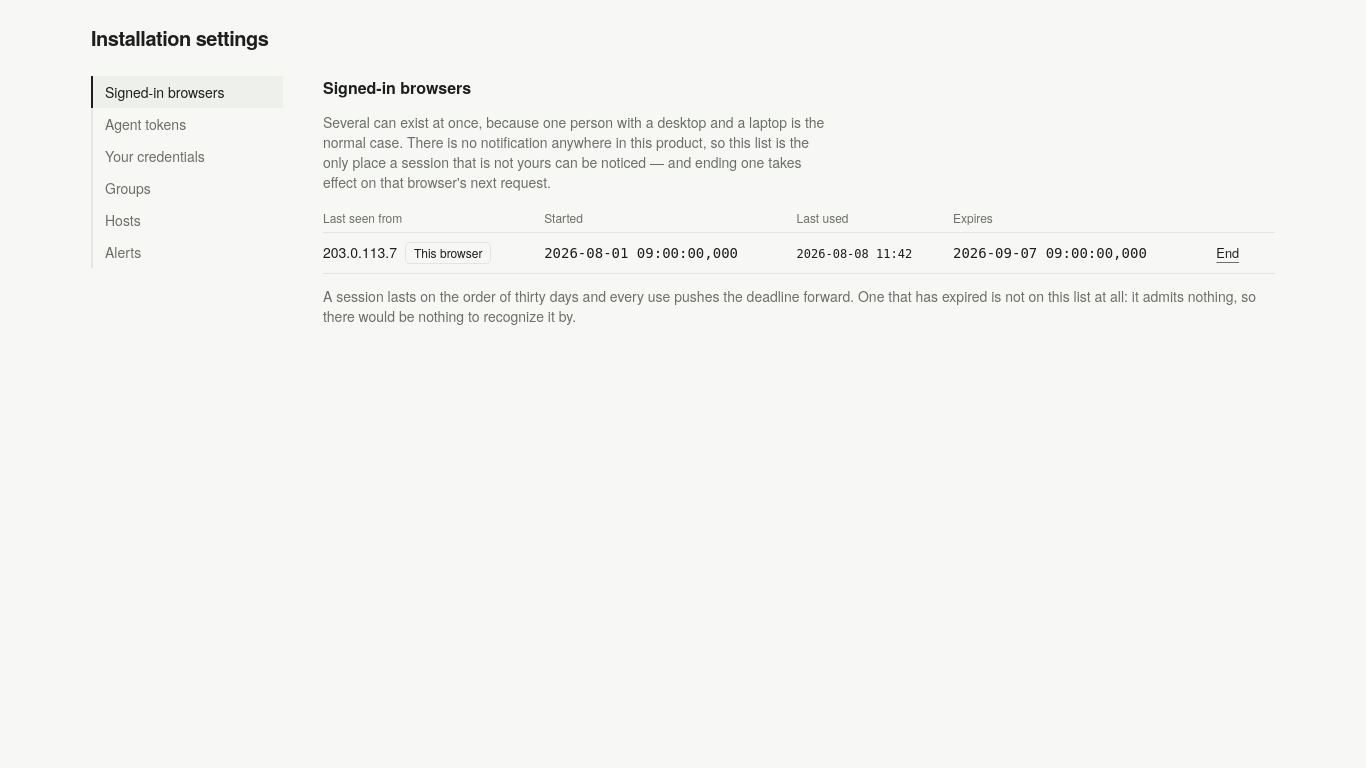
Test: the areas › walks from one area to another, and marks the one being read
The width and height of the screenshot is (1366, 768).
Click the link "Agent tokens": (187, 124) [91,108,283,140]
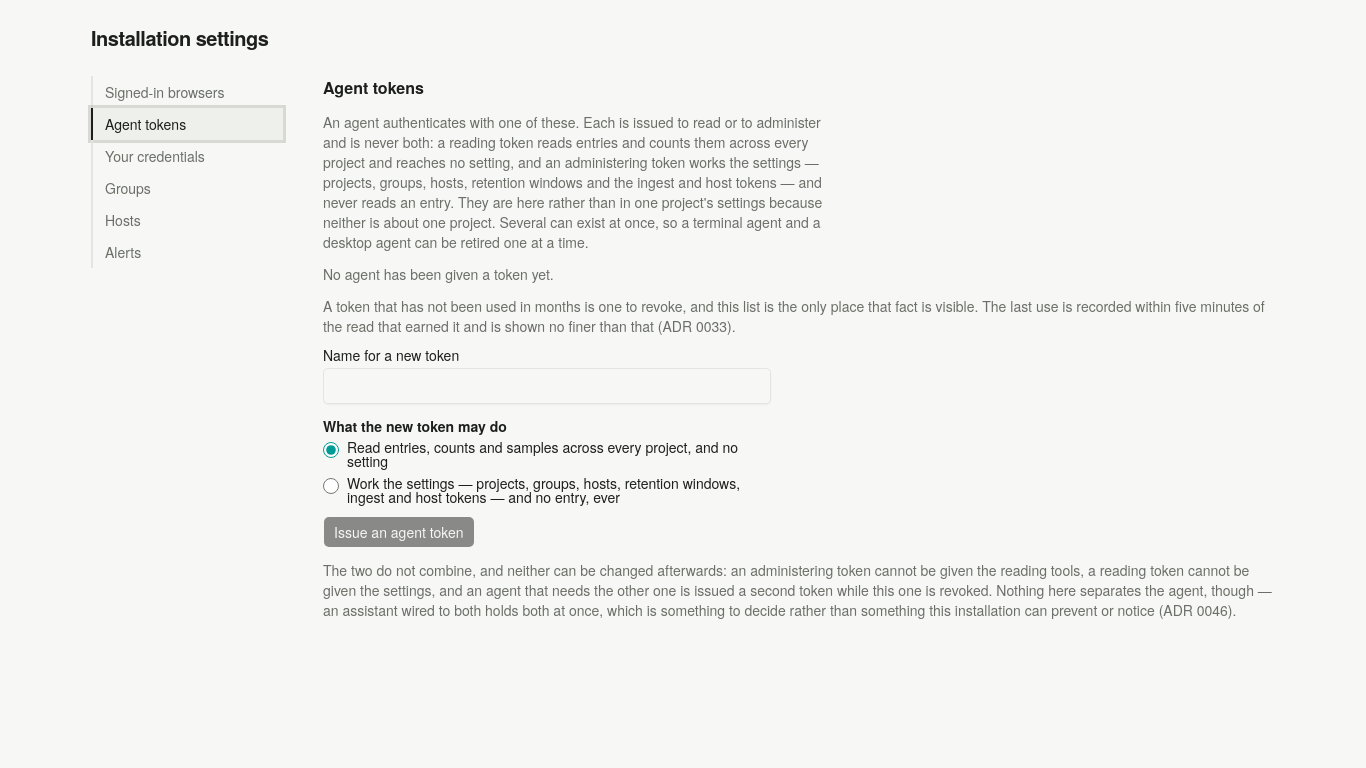
Now the heading "Agent tokens" is shown, box [323,76,424,99]
